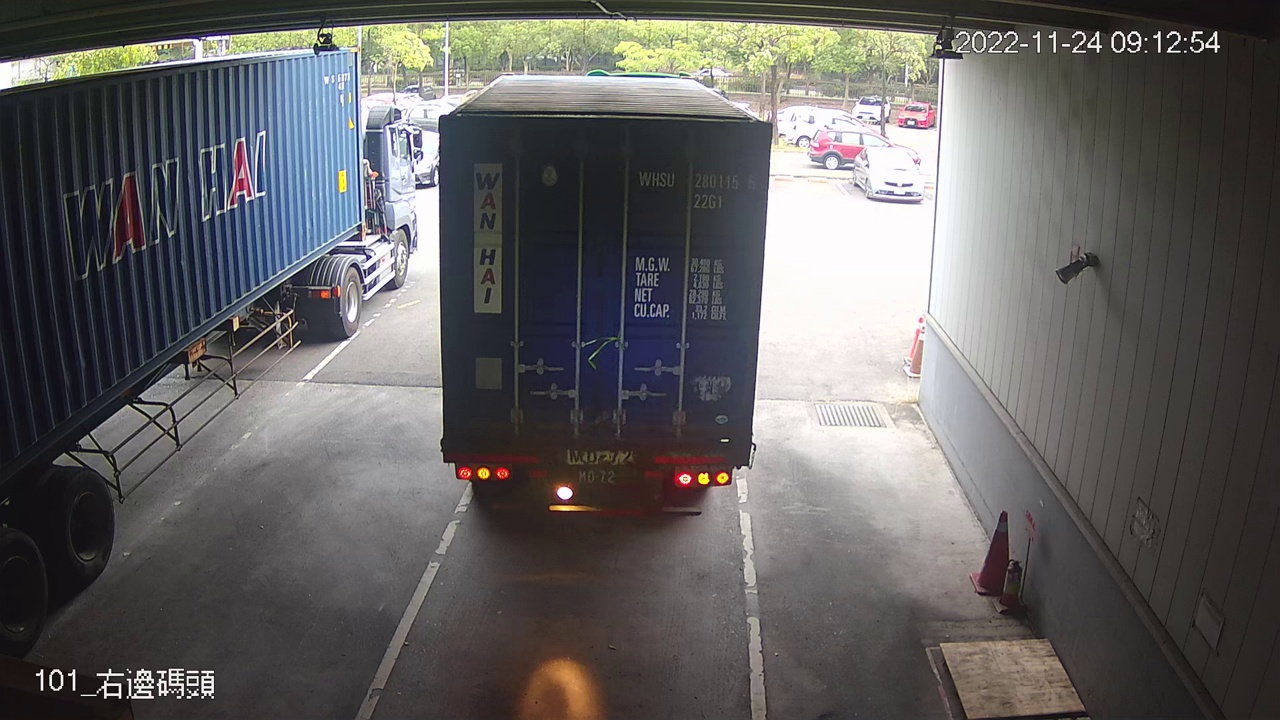container: (629, 162, 762, 216)
